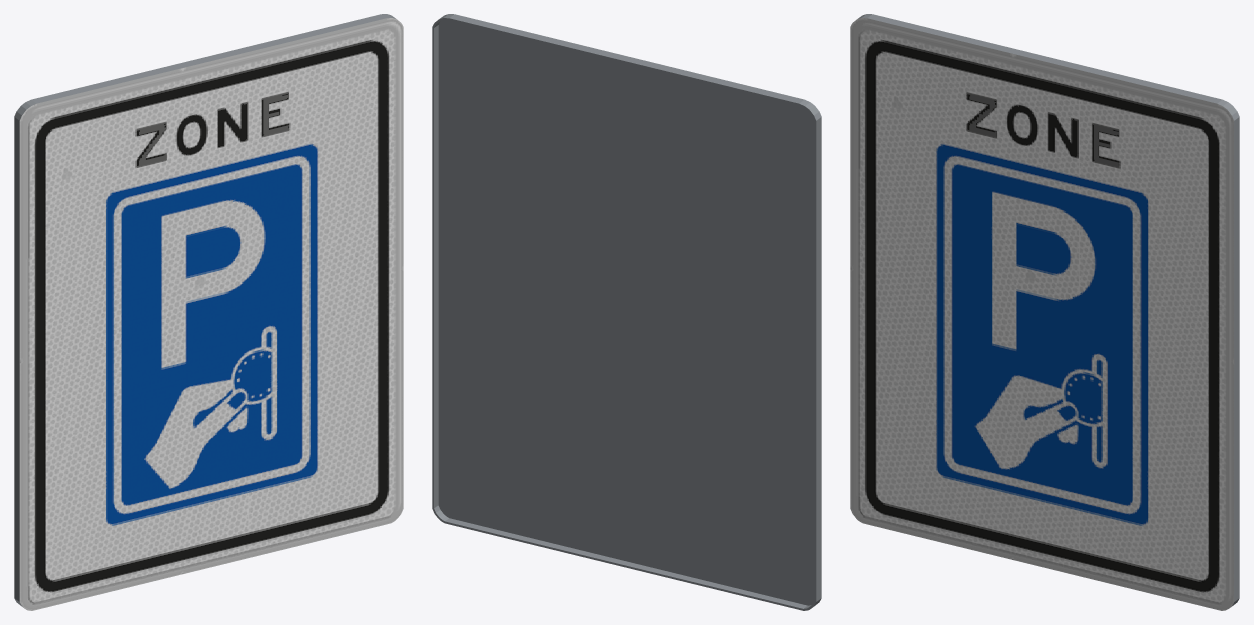
The picture shows the model from 3 angles, left to right: view 1: azimuth 30°, elevation 25°; view 2: azimuth 150°, elevation 25°; view 3: azimuth 330°, elevation 25°; orthographic projection.
Visible parts, largest first — view 1: cat_83c5c90b638f87fe; view 2: cat_83c5c90b638f87fe; view 3: cat_83c5c90b638f87fe.
Part boxes in pixels (x1,y1,x2,y2): cat_83c5c90b638f87fe: (14,14,403,610); cat_83c5c90b638f87fe: (432,14,821,610); cat_83c5c90b638f87fe: (850,14,1239,610).
Bounding box in the file's own units: 0.6 × 0.015 × 0.7558.
2 materials, 1 textured.
